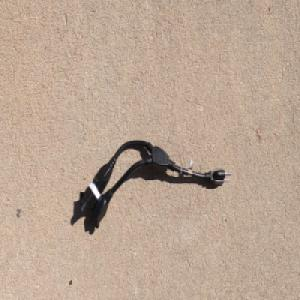Wire: (77, 138, 232, 230)
